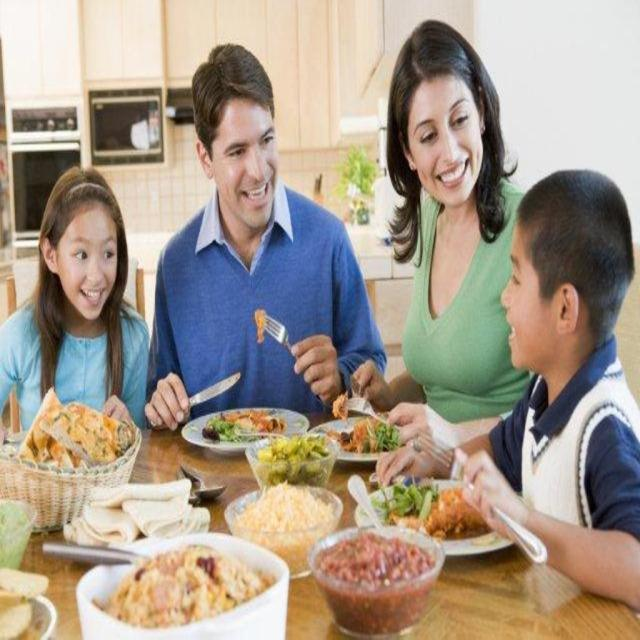Face: (401, 49, 493, 204), (211, 84, 290, 231), (51, 208, 133, 327), (501, 226, 540, 369)
